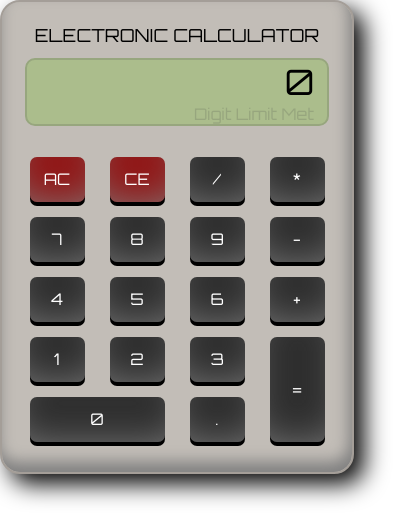
Test: method pressMathSigns › renders 0 + mathSign at expression if limit
The width and height of the screenshot is (401, 521).
Expected: the text with class "Calc__input-value" reads "0", [285,60,314,104]
Expected: the text with class "Calc__expression" reads "Digit Limit Met", [194,104,314,124]
Click the text with class "Calc__button_SR" showing "-" at (297, 239), box [270,216,324,262]
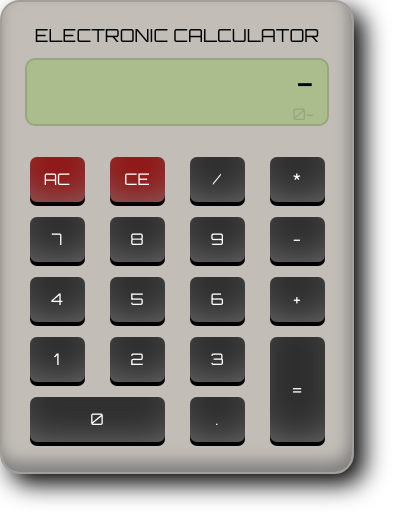
Expected: the text with class "Calc__expression" reads "0-", [292,104,314,124]
Expected: the text with class "Calc__input-value" reads "-", [296,60,314,104]
